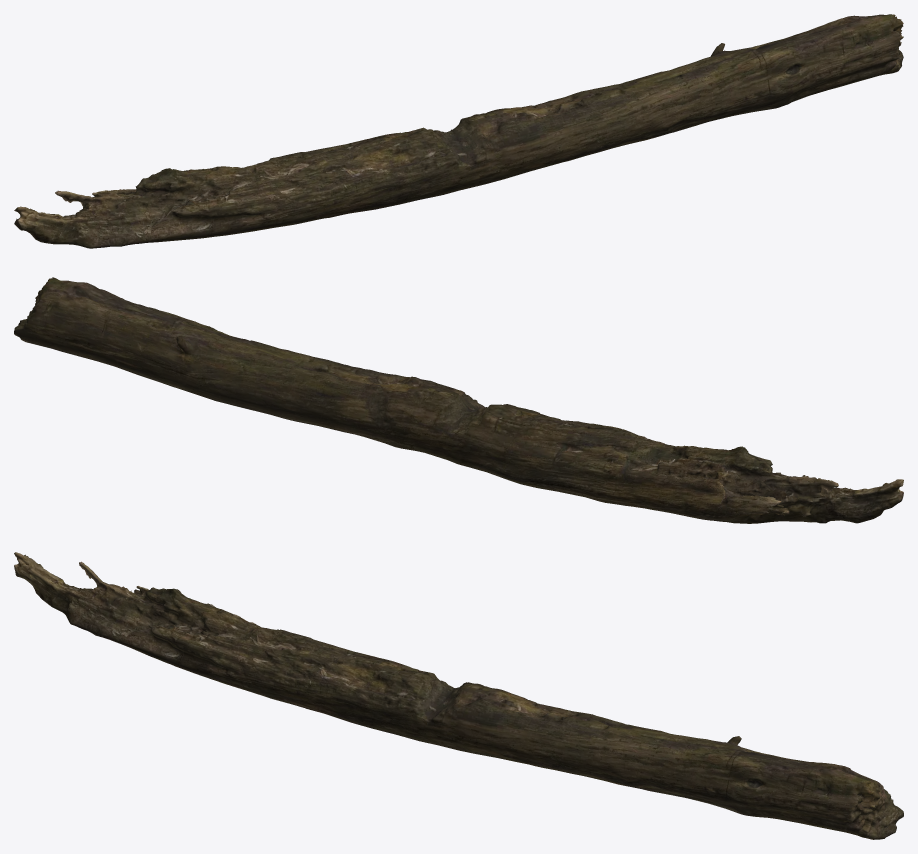
The model's file is Log_a.glb.
3 views of the same model, one above another, from view 1: azimuth 30°, elevation 25°; view 2: azimuth 150°, elevation 25°; view 3: azimuth 330°, elevation 25° (orthographic).
Visible parts, largest first — view 1: dead_tree_trunk; view 2: dead_tree_trunk; view 3: dead_tree_trunk.
Part boxes in pixels (box(x1,y1,x2,y2)): dead_tree_trunk: box(14, 14, 903, 248); dead_tree_trunk: box(14, 277, 903, 523); dead_tree_trunk: box(14, 552, 903, 839).
Size of the model in its own units: 3.05 by 0.2898 by 0.2775.
Materials: 1 (1 with a texture image).
